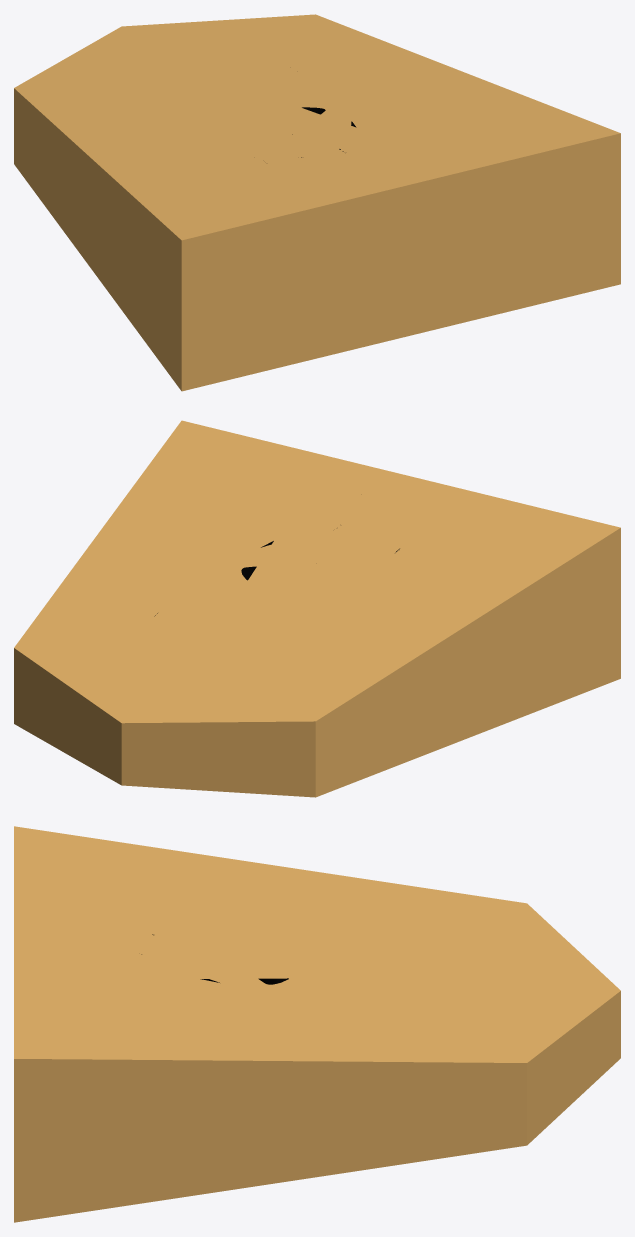
File: gyoku.fbx
The picture shows the model from 3 angles, top to bottom: view 1: azimuth 30°, elevation 25°; view 2: azimuth 150°, elevation 25°; view 3: azimuth 270°, elevation 25°; orthographic projection. The views are drawn at different scales.
Parts seen in each view (by area): view 1: gyoku; view 2: gyoku; view 3: gyoku.
Boxes of the visible parts, x1,y1,x2,y2 form: gyoku: (14, 14, 620, 391); gyoku: (14, 420, 620, 797); gyoku: (14, 826, 620, 1222).
Bounding box in the file's own units: 0.028 × 0.0092 × 0.0309.
